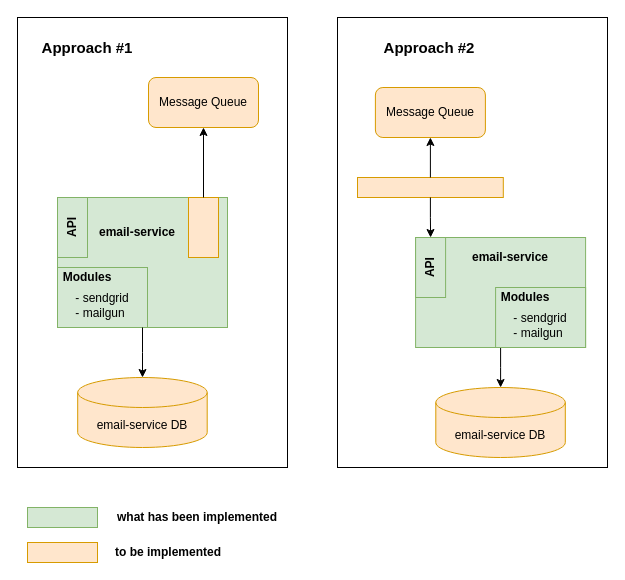
Some shapes in this 625 by 580 pixel diagram are drawn without their labels. Each missing label, with the centre of its shape:
"Event" goes at pixel 203 227.
"queue-event-listener" goes at pixel 429 187.
